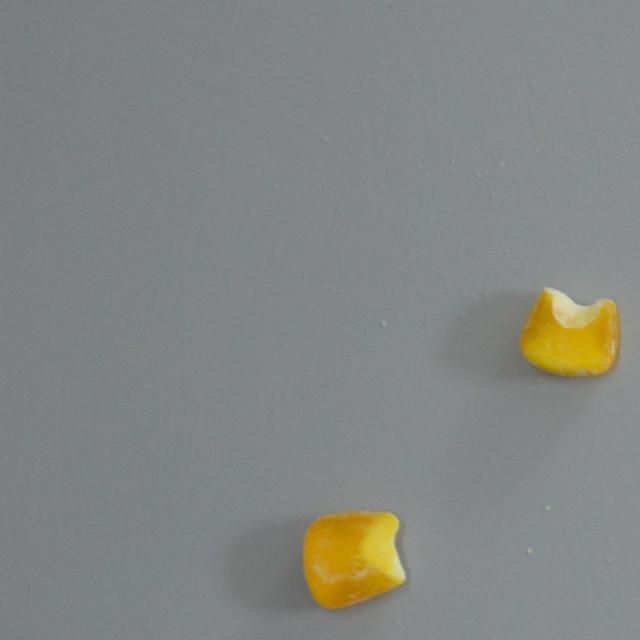dañado: (300, 506, 412, 615), (516, 282, 627, 386)
